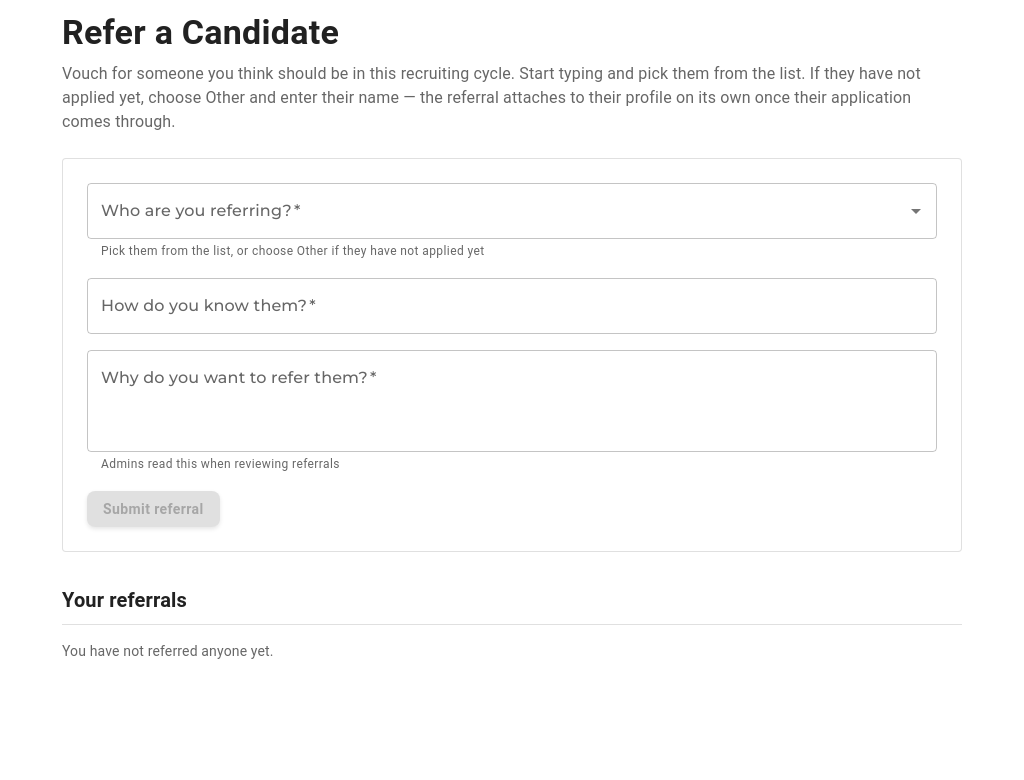
Test: MemberReferrals › submits the picked candidate by id, with no typed name
Expected: the text "You have not referred anyone yet." is shown, [62,643,274,659]
Type "kar" into the dropdown labelled "Who are you referring? *" at coordinates (497, 211), box [96,192,898,230]
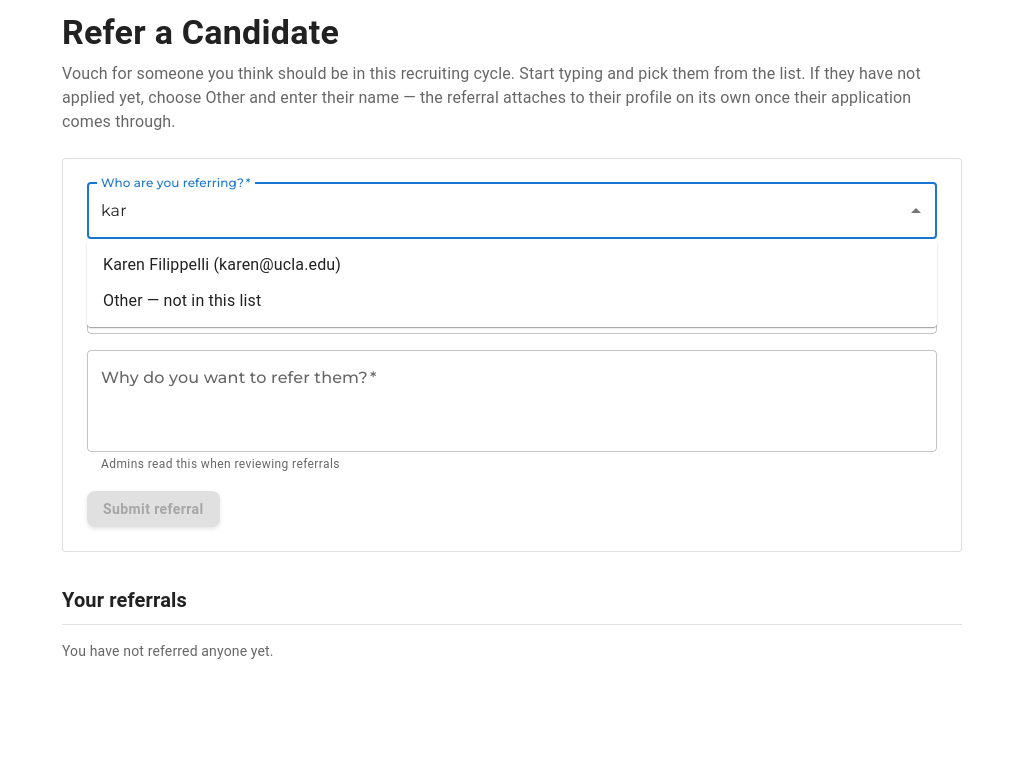
Click the option "Karen Filippelli (karen@ucla.edu)" at coordinates (222, 264), box [103,255,341,274]
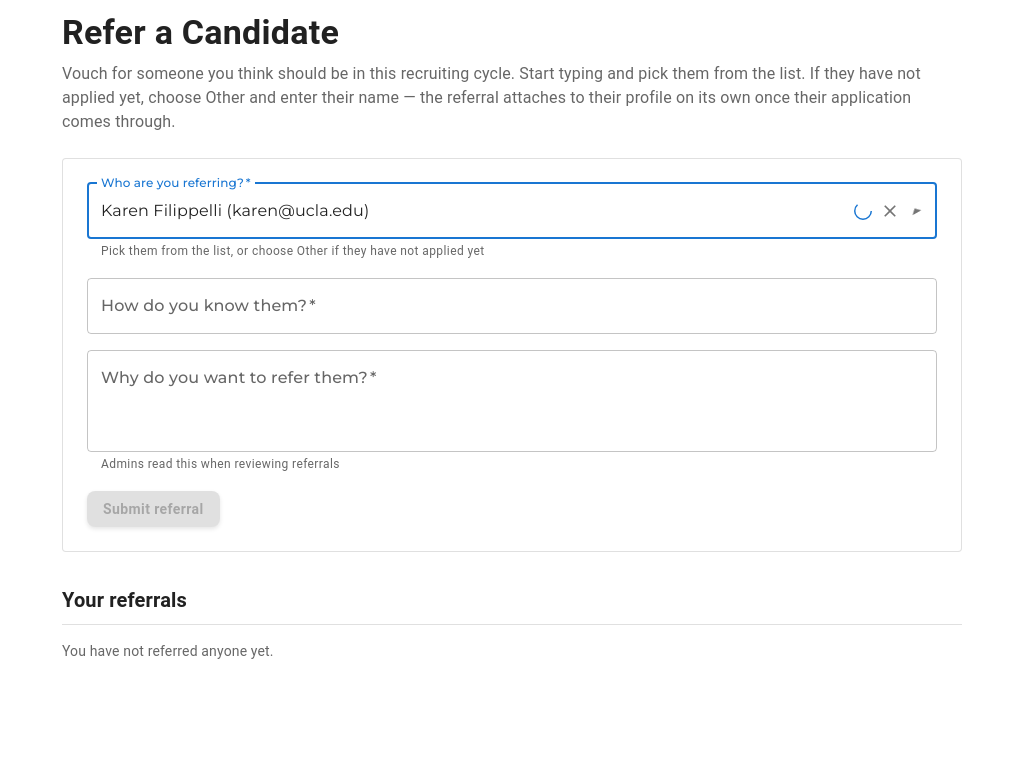
Type "Classmate" into the field labelled "How do you know them? *" at coordinates (512, 306), box [87,278,937,334]
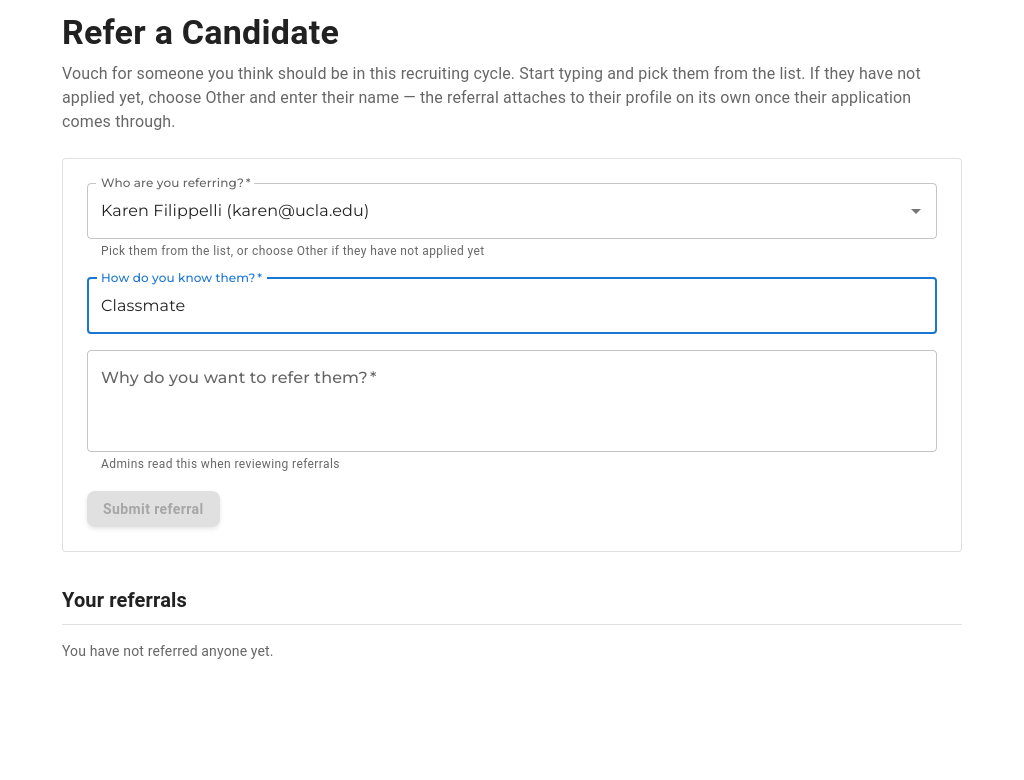
Type "Sharp and kind" into the text box labelled "Why do you want to refer them? *" at coordinates (512, 401), box [101,366,923,435]
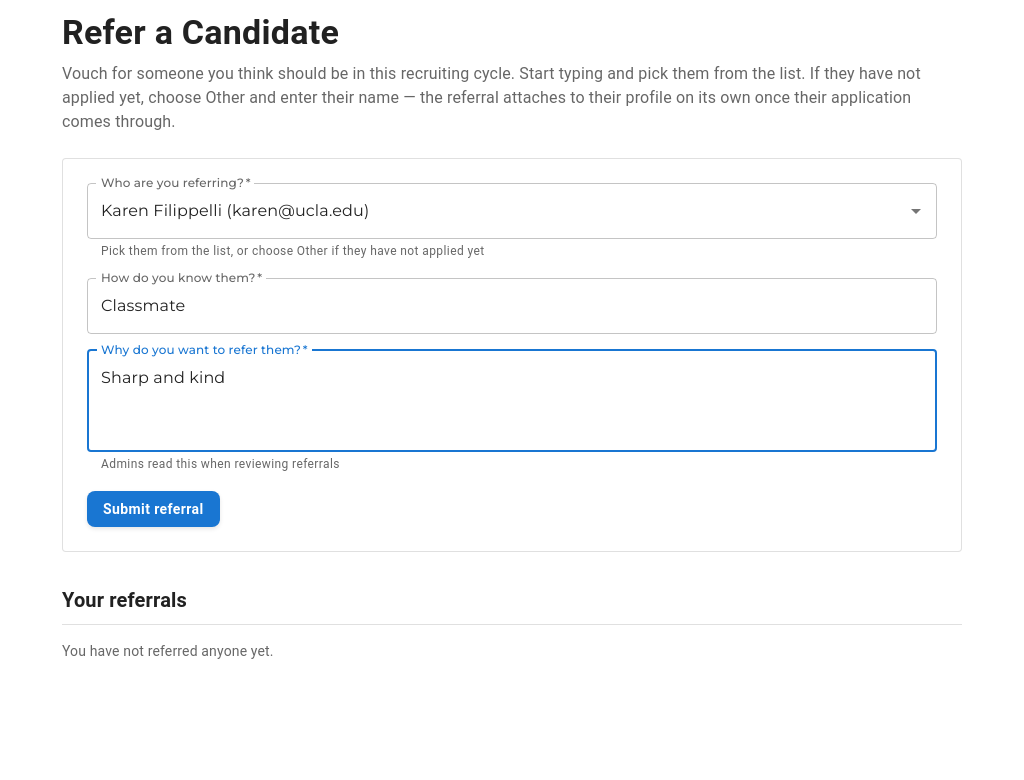
Click the button "Submit referral" at coordinates (153, 509), box [87,491,220,527]
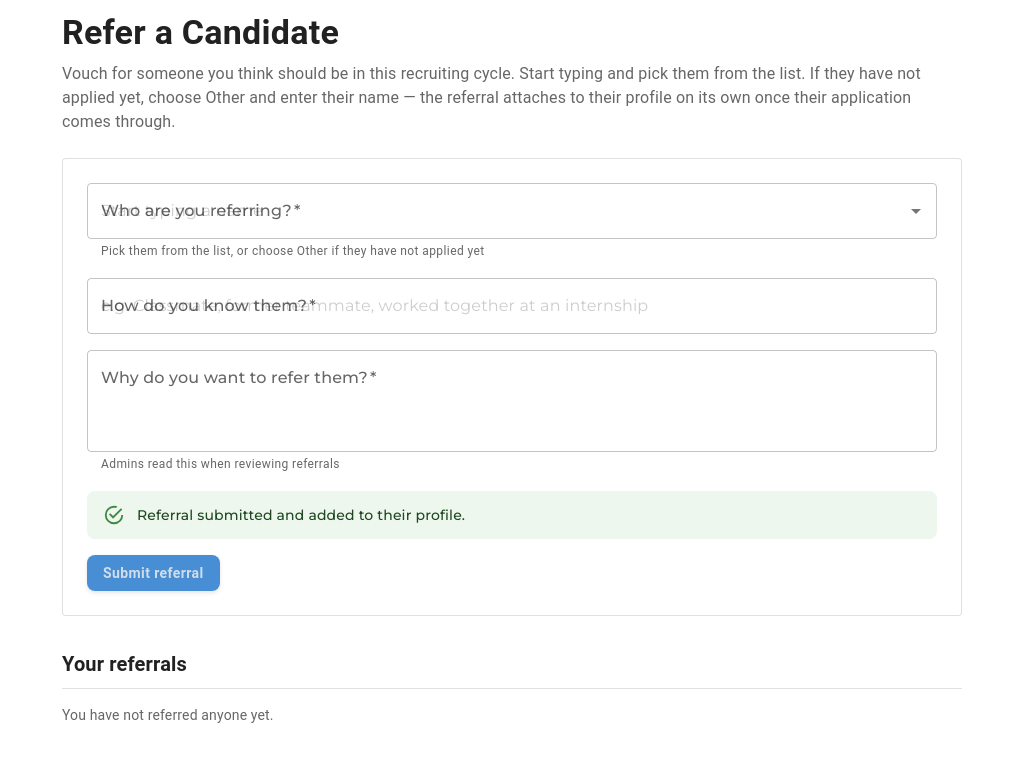
Expected: the text "Referral submitted and added to their profile." is shown, [137,506,465,524]
